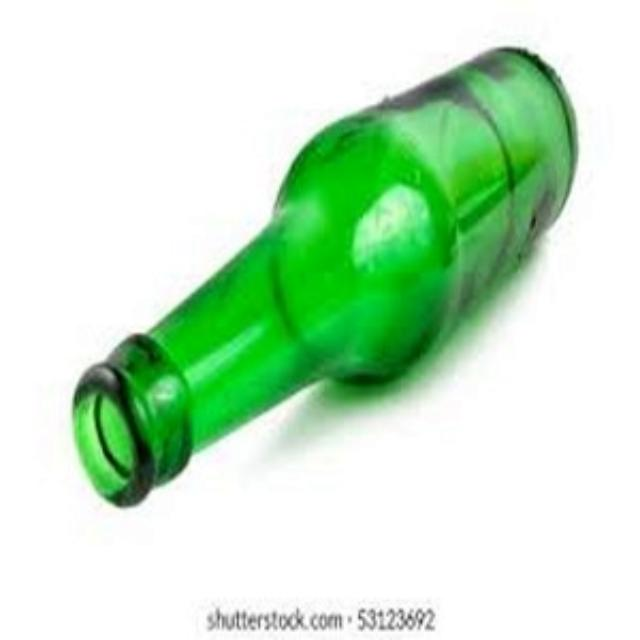Glass: (68, 37, 590, 519)
